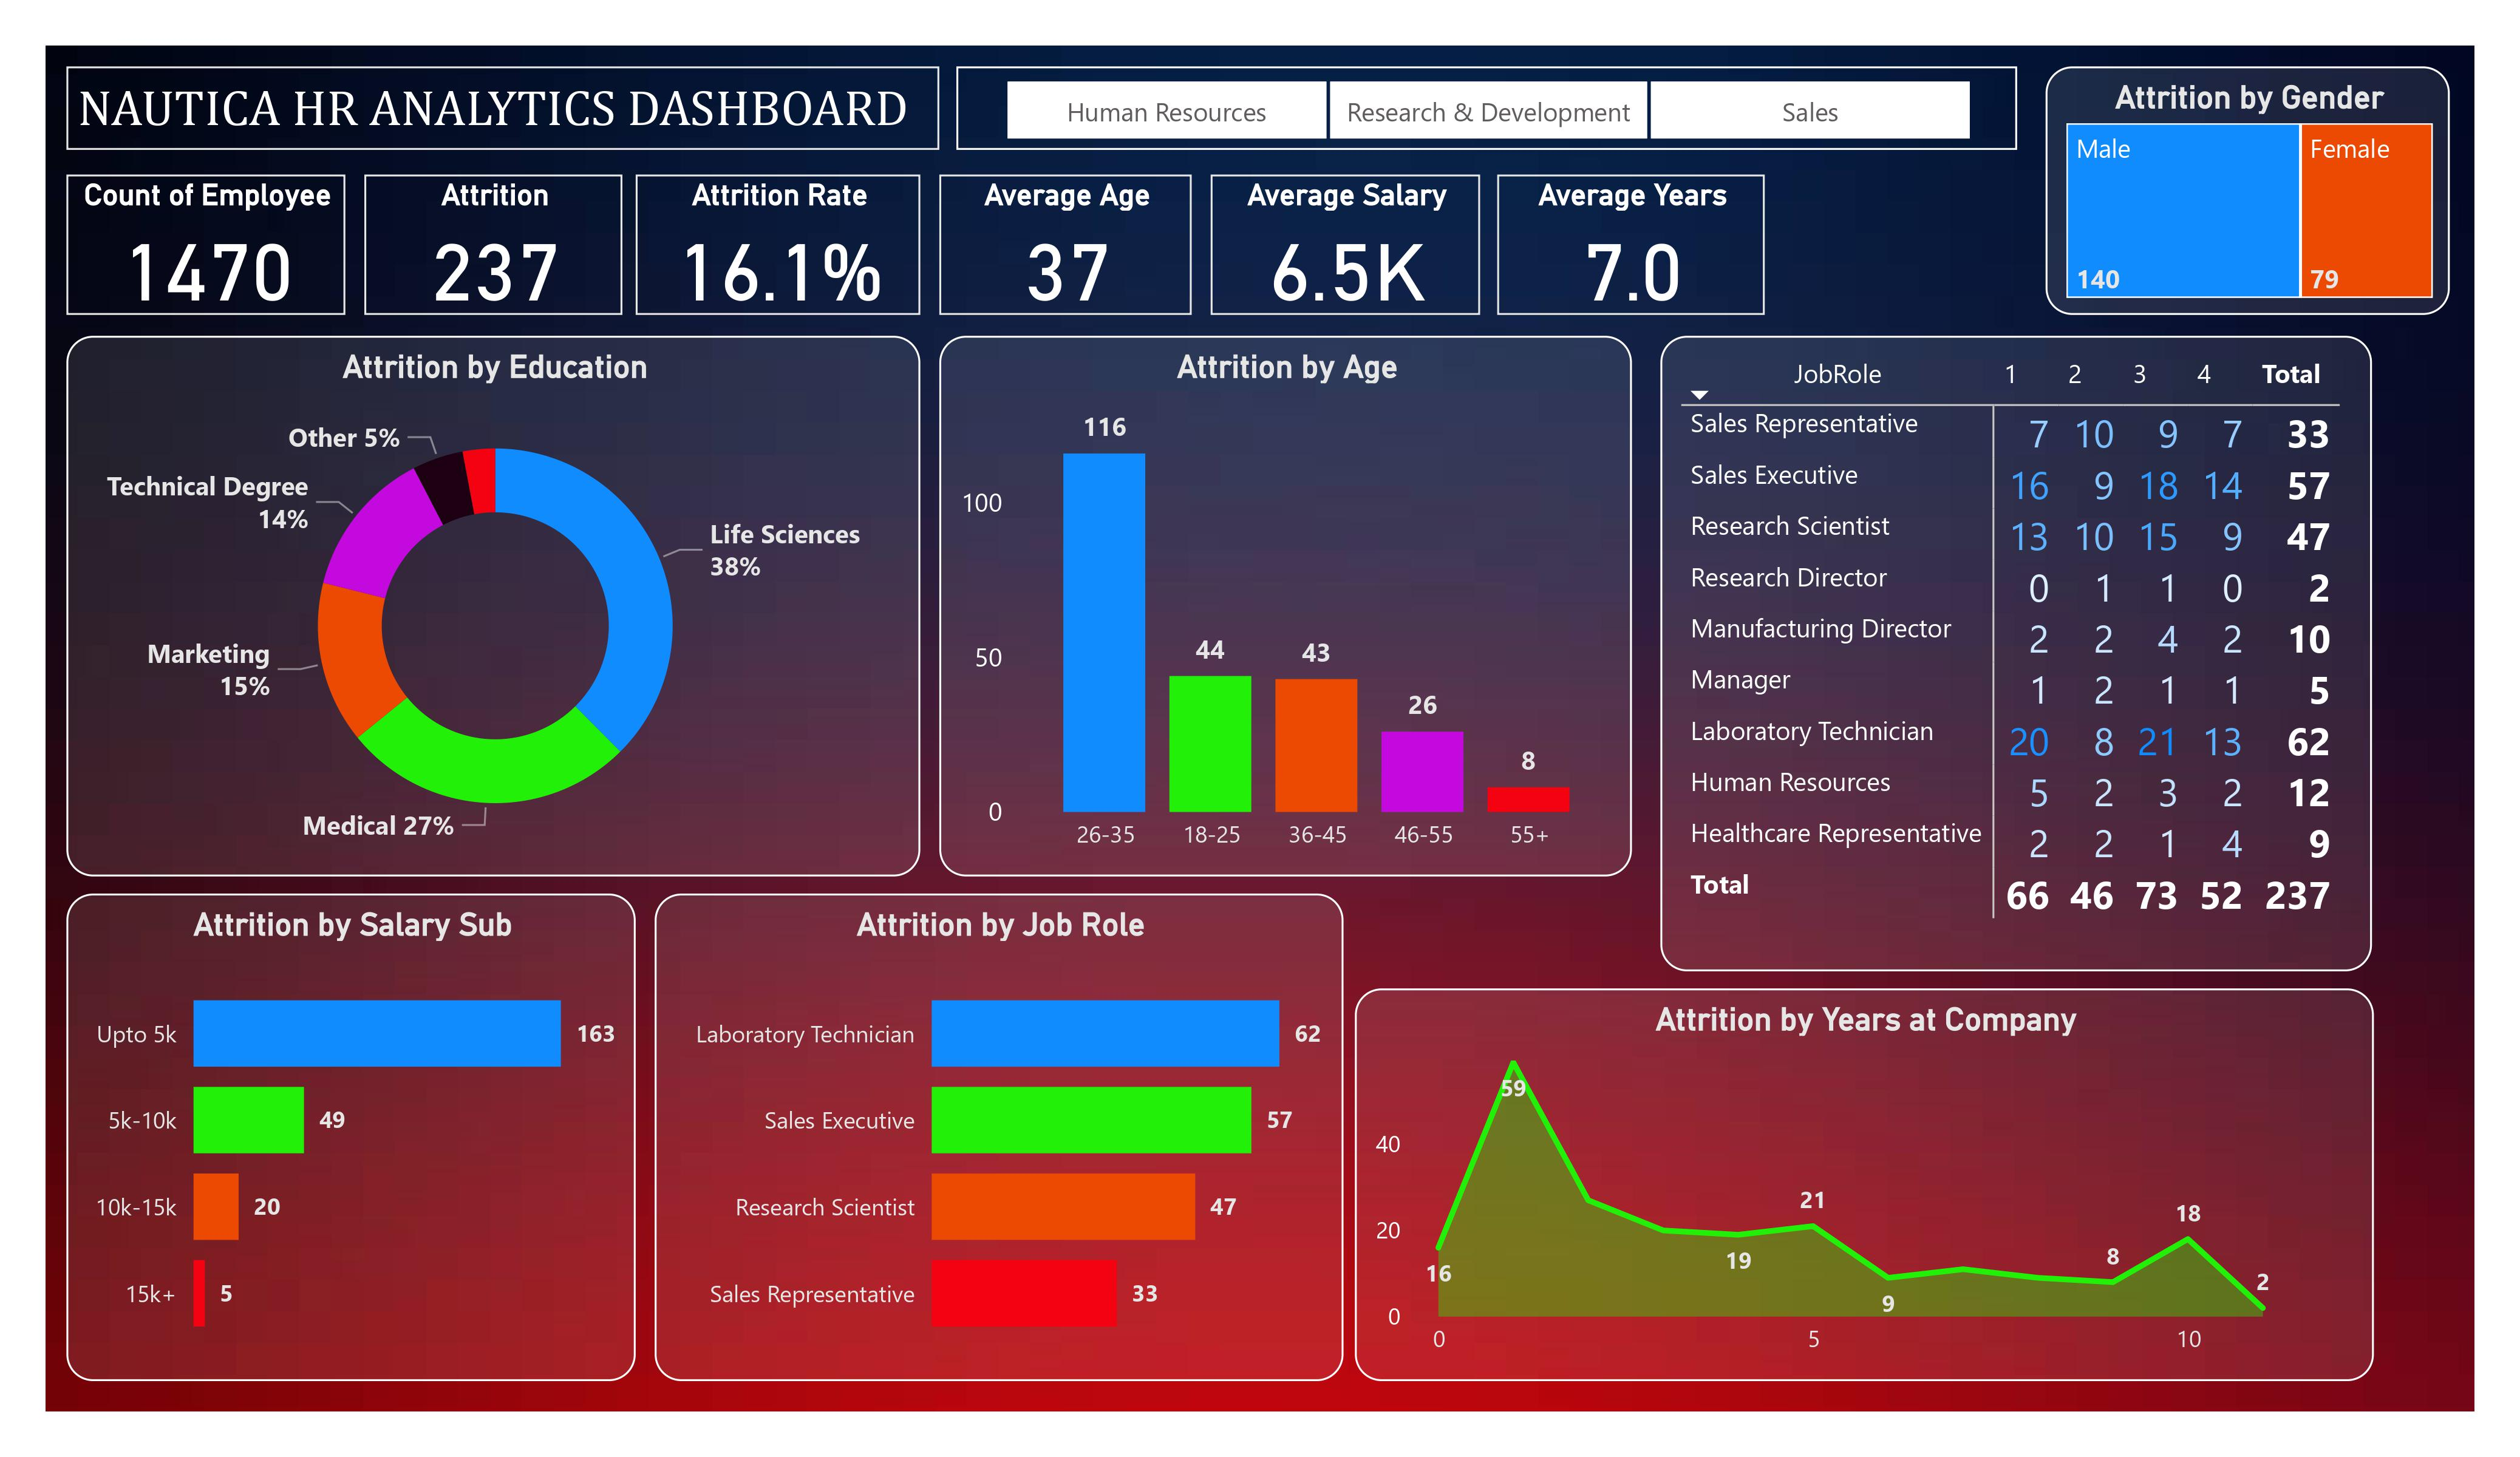

This screenshot's page, from the dashboard's own definition file:
{"tool":"powerbi","page":{"name":"Page 1","canvas":[1280,720],"ordinal":0},"visuals":[{"type":"card","title":"Count of Employee","fields":{"Values":["CountNonNull(HR_Analytics.EmpID)"]},"box":[11.1,68.1,147.2,73.6],"z":0},{"type":"card","title":"Attrition","fields":{"Values":["Sum(HR_Analytics.AttritionCount)"]},"box":[168.1,68.1,136.1,73.6],"z":1000},{"type":"card","title":"Attrition Rate","fields":{"Values":["HR_Analytics.AttritionRate"]},"box":[311.1,68.1,150,73.6],"z":2000},{"type":"card","title":"Average Age","fields":{"Values":["Avg(HR_Analytics.Age)"]},"box":[470.8,68.1,133.3,73.6],"z":3000},{"type":"card","title":"Average Salary","fields":{"Values":["Avg(HR_Analytics.MonthlyIncome)"]},"box":[613.9,68.1,141.7,73.6],"z":4000},{"type":"card","title":"Average Years","fields":{"Values":["Avg(HR_Analytics.YearsAtCompany)"]},"box":[765.3,68.1,140.3,73.6],"z":5000},{"type":"donutChart","title":"Attrition by Education","fields":{"Category":["HR_Analytics.EducationField"],"Y":["Sum(HR_Analytics.AttritionCount)"]},"box":[11.1,152.8,450,284.7],"z":6000},{"type":"columnChart","title":"Attrition by Age","fields":{"Category":["HR_Analytics.AgeGroup"],"Y":["Sum(HR_Analytics.AttritionCount)"]},"box":[470.8,152.8,365.3,284.7],"z":7000},{"type":"pivotTable","fields":{"Rows":["HR_Analytics.JobRole"],"Columns":["HR_Analytics.JobSatisfaction"],"Values":["Sum(HR_Analytics.AttritionCount)"]},"box":[851.4,152.8,375,334.7],"z":8000},{"type":"barChart","title":"Attrition by Salary Slab","fields":{"Category":["HR_Analytics.SalarySlab"],"Y":["Sum(HR_Analytics.AttritionCount)"]},"box":[11.4,447.1,300,257.1],"z":9000},{"type":"barChart","title":"Attrition by Job Role","fields":{"Y":["Sum(HR_Analytics.AttritionCount)"],"Category":["HR_Analytics.JobRole"]},"box":[321.4,447.1,362.9,257.1],"z":10000},{"type":"areaChart","title":"Attrition by Years at Company","fields":{"Category":["HR_Analytics.YearsAtCompany"],"Y":["Sum(HR_Analytics.AttritionCount)"]},"box":[690,497.1,537.1,207.1],"z":11000},{"type":"treemap","title":"Attrition by Gender","fields":{"Group":["HR_Analytics.Gender"],"Values":["Sum(HR_Analytics.AttritionCount)"]},"box":[1054.2,11.1,212.5,130.6],"z":12000},{"type":"slicer","fields":{"Values":["HR_Analytics.Department"]},"box":[480.5,11.3,558.4,43.9],"z":13000},{"type":"textbox","box":[11.3,11.3,459.2,43.9],"z":14000}]}

Visuals, with their boxes in screenshot pixels (x1, y1, x2, y2):
"Count of Employee" card: [x1=67, y1=175, x2=346, y2=314]
"Attrition" card: [x1=364, y1=175, x2=623, y2=314]
"Attrition Rate" card: [x1=636, y1=175, x2=921, y2=314]
"Average Age" card: [x1=939, y1=175, x2=1192, y2=314]
"Average Salary" card: [x1=1210, y1=175, x2=1479, y2=314]
"Average Years" card: [x1=1498, y1=175, x2=1764, y2=314]
"Attrition by Education" donutChart: [x1=67, y1=335, x2=921, y2=875]
"Attrition by Age" columnChart: [x1=939, y1=335, x2=1632, y2=875]
pivotTable - HR_Analytics.JobRole x HR_Analytics.JobSatisfaction: [x1=1661, y1=335, x2=2373, y2=970]
"Attrition by Salary Slab" barChart: [x1=67, y1=894, x2=636, y2=1382]
"Attrition by Job Role" barChart: [x1=655, y1=894, x2=1344, y2=1382]
"Attrition by Years at Company" areaChart: [x1=1355, y1=988, x2=2374, y2=1382]
"Attrition by Gender" treemap: [x1=2046, y1=67, x2=2449, y2=314]
slicer - HR_Analytics.Department: [x1=958, y1=67, x2=2017, y2=151]
textbox: [x1=67, y1=67, x2=938, y2=151]
